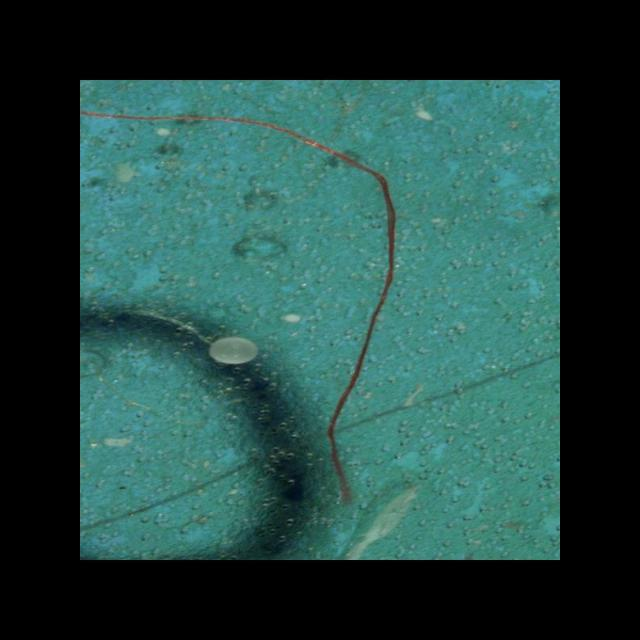Fibre: (80, 103, 412, 513)
